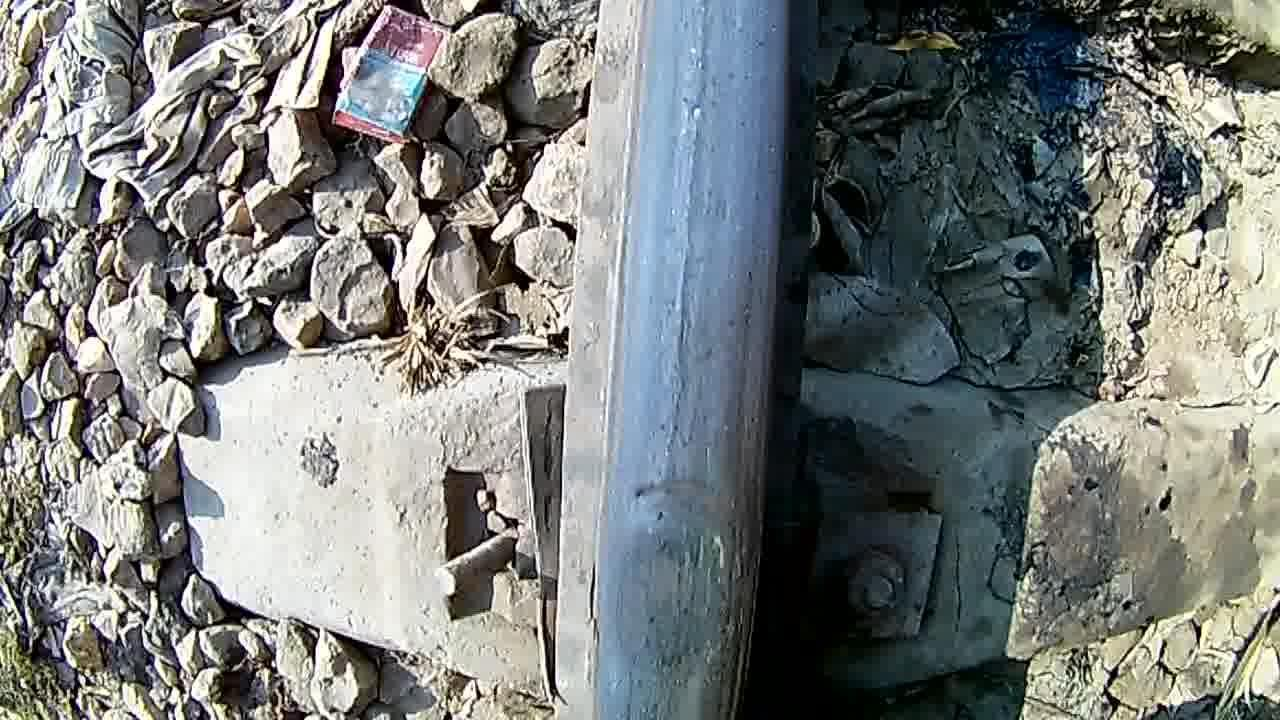crack: (577, 442, 756, 720)
